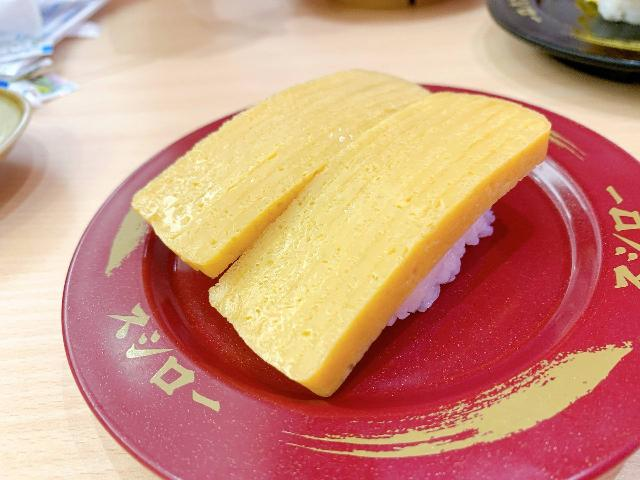janback: (489, 0, 640, 84)
janred: (99, 74, 638, 480)
